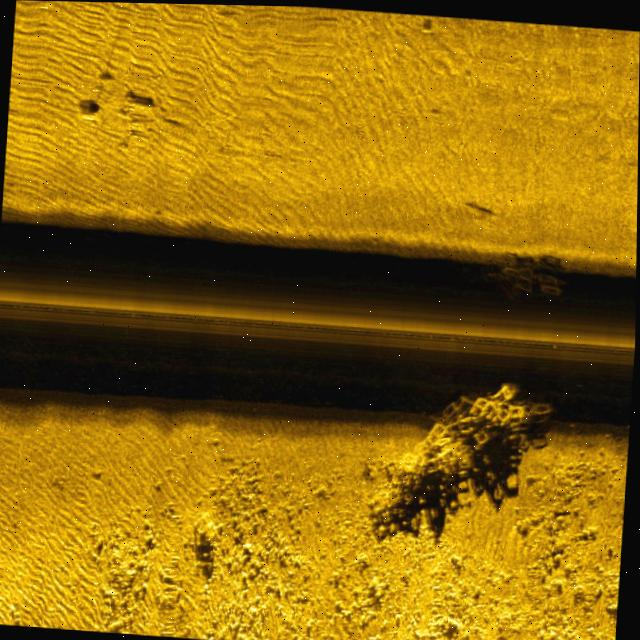artificial reef: (363, 366, 562, 538), (459, 248, 578, 305)
